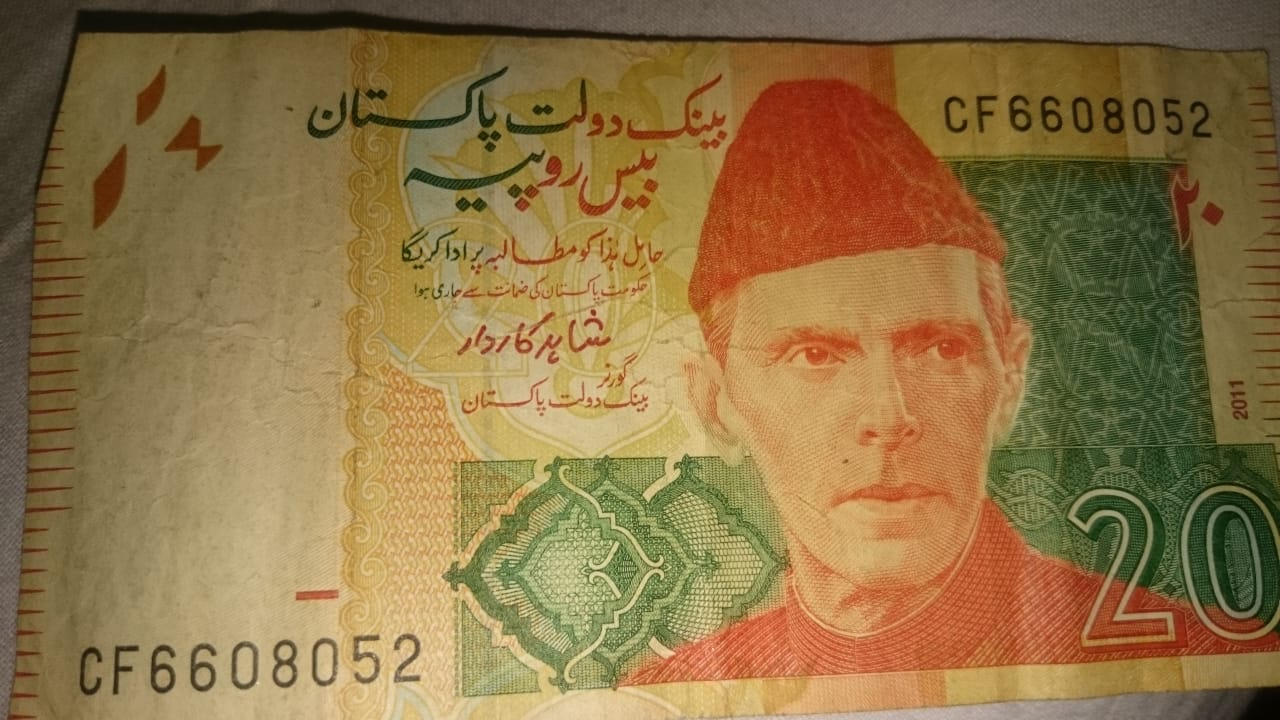20 rupee: (30, 24, 1261, 702)
